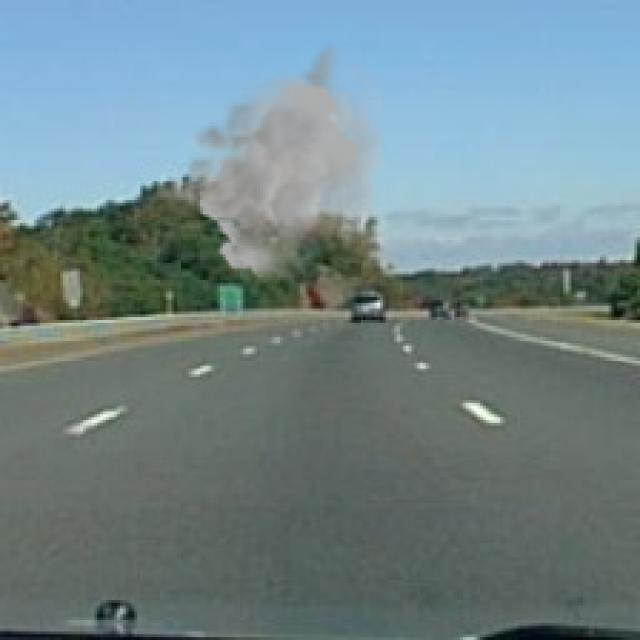Smoke: (152, 43, 392, 283)
